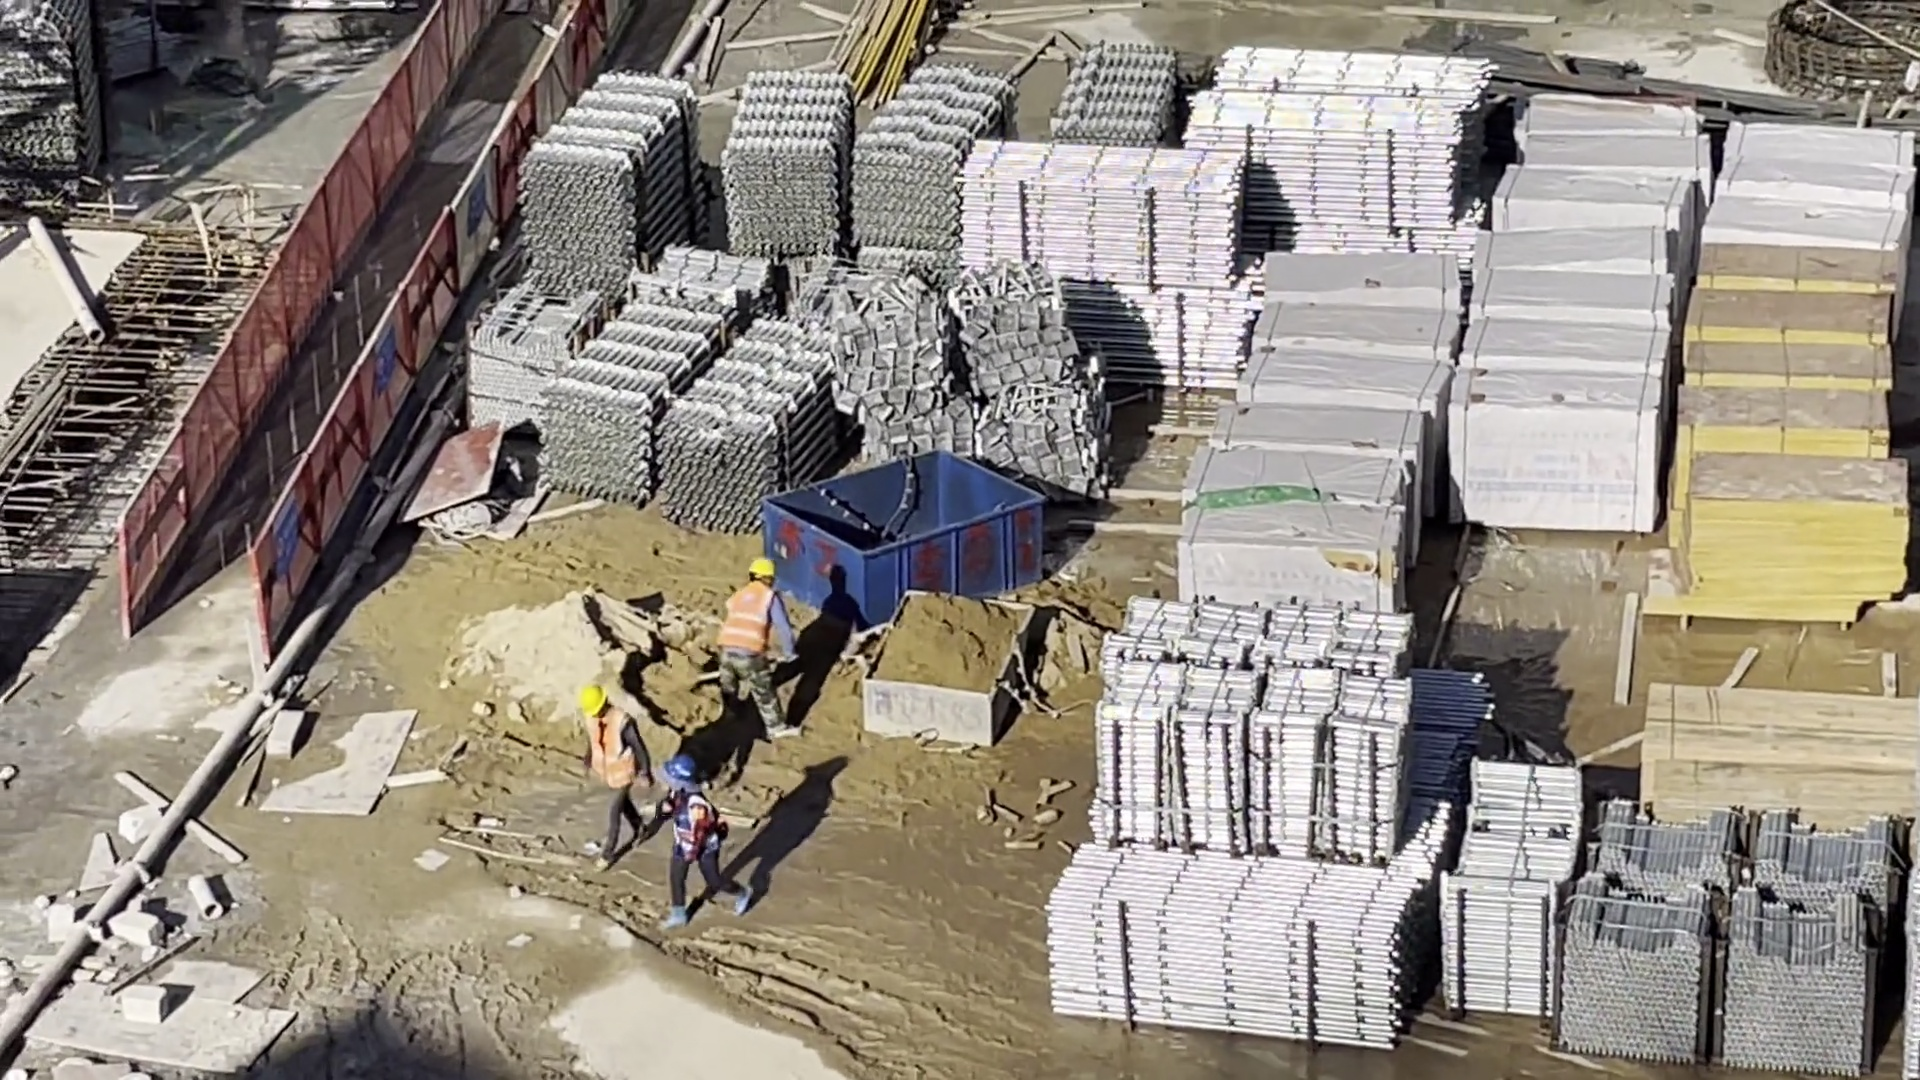board: (1674, 245, 1905, 618), (1635, 670, 1920, 815)
fence: (117, 12, 581, 615)
helmet: (664, 755, 697, 785), (579, 688, 608, 716), (748, 558, 773, 579)
hopper: (763, 450, 1043, 633), (861, 585, 1033, 745)
person: (716, 559, 800, 737), (662, 755, 742, 930), (582, 688, 652, 876)
scaffold: (1555, 803, 1890, 1079), (1094, 603, 1411, 860), (1051, 843, 1419, 1043), (961, 149, 1252, 377), (554, 306, 842, 516), (725, 74, 1005, 254), (1186, 47, 1486, 211), (528, 77, 698, 280), (1440, 760, 1571, 996), (1, 18, 98, 193), (1052, 46, 1174, 147)
slogan: (271, 496, 304, 573), (370, 320, 393, 388)
vest: (727, 573, 773, 656), (588, 715, 635, 789)
